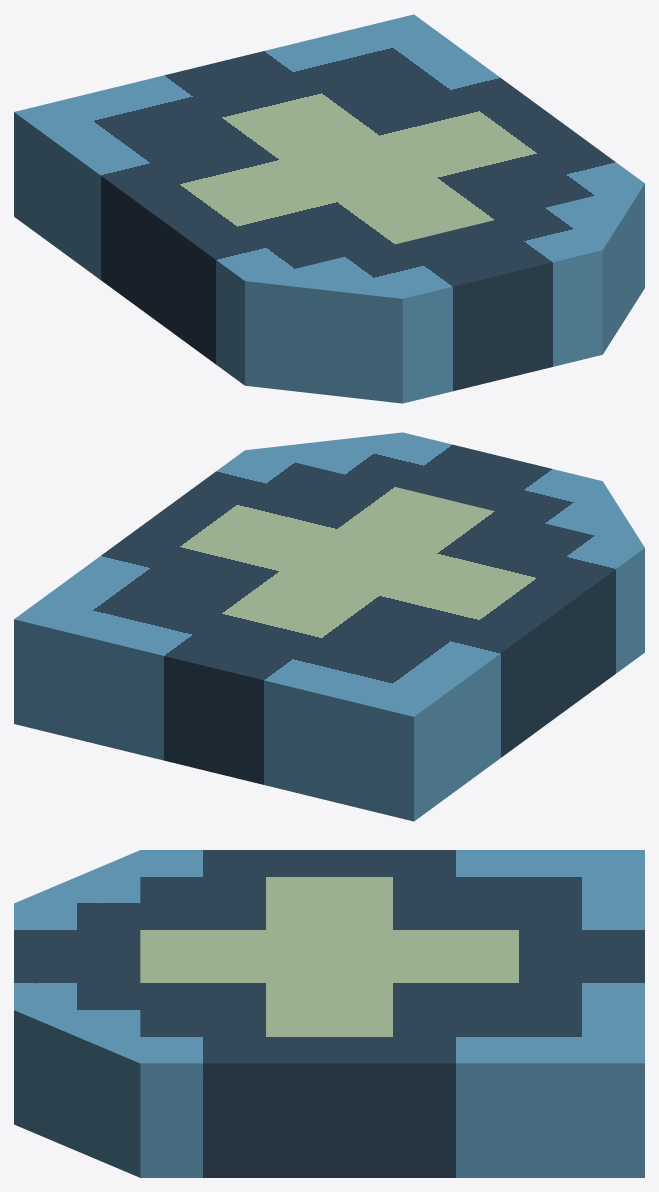
The model's file is Healthpack.fbx.
3 views of the same model, one above another, from view 1: azimuth 30°, elevation 25°; view 2: azimuth 150°, elevation 25°; view 3: azimuth 270°, elevation 25° (orthographic). The views are drawn at different scales.
Visible parts, largest first — view 1: cube_1, cube; view 2: cube_1, cube; view 3: cube_1, cube.
Boxes of the visible parts, bbox=[...] form: cube_1: bbox=[14, 14, 644, 385]; cube: bbox=[245, 183, 644, 403]; cube_1: bbox=[14, 450, 644, 821]; cube: bbox=[246, 432, 644, 547]; cube_1: bbox=[140, 850, 644, 1177]; cube: bbox=[14, 850, 140, 1177].
Bounding box in the file's own units: 50 × 12.5 × 62.5.
Materials: 1 (1 with a texture image).
